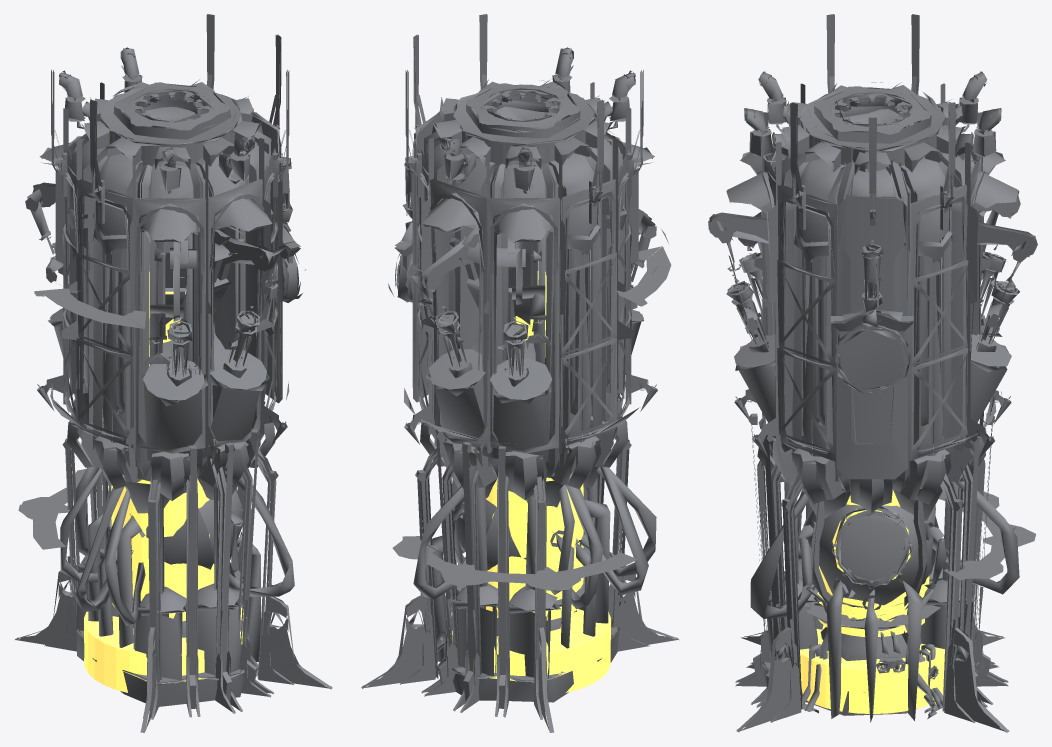
Rendered from generator.glb.
The picture shows the model from 3 angles, left to right: view 1: azimuth 30°, elevation 25°; view 2: azimuth 150°, elevation 25°; view 3: azimuth 270°, elevation 25°; orthographic projection. The views are drawn at different scales.
Visible parts, largest first — view 1: Generator; view 2: Generator; view 3: Generator.
Boxes of the visible parts, x1,y1,x2,y2 form: Generator: (14, 14, 332, 732); Generator: (361, 14, 679, 732); Generator: (708, 14, 1037, 732).
Bounding box in the file's own units: 13.66 × 31.57 × 15.2.
